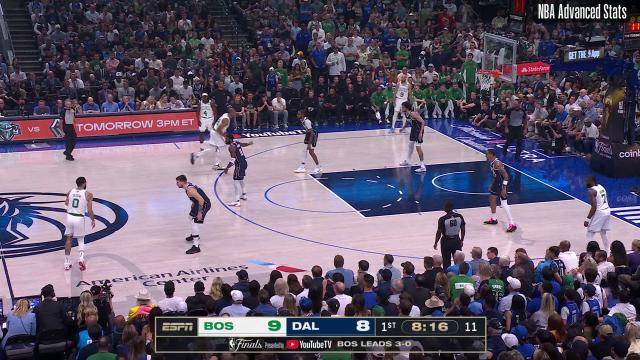3_sx: (434, 128, 442, 138)
b_sx: (423, 122, 429, 130)
free_adx: (360, 212, 370, 223)
free_asx: (304, 170, 312, 178)
free_bdx: (572, 193, 582, 203)
mid_sx: (170, 139, 178, 147)
referee: (433, 200, 465, 268), (504, 99, 528, 160), (60, 100, 78, 162)
team: (63, 178, 97, 272), (581, 174, 613, 258), (194, 108, 234, 172), (388, 74, 412, 134), (198, 91, 216, 151)
team1: (176, 174, 212, 256), (484, 149, 518, 235), (399, 102, 427, 174), (224, 136, 252, 206), (296, 109, 322, 176)
timer: (410, 320, 450, 334)
